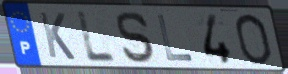4: (201, 12, 233, 66)
K: (37, 10, 77, 62)
L: (76, 10, 120, 64), (155, 14, 195, 63)
O: (232, 12, 274, 67)
S: (115, 10, 158, 65)
